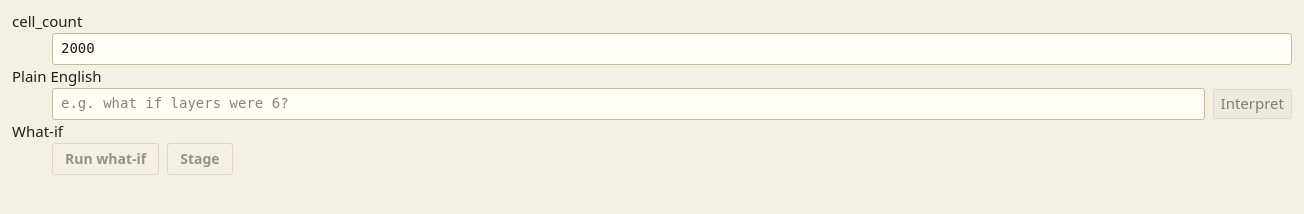
Test case: WhatIfEditor › points at the named step instead of filling the wrong form
Type "sense threshold to 0.9" into the field named "Describe the change in plain English" at (628, 104), box x1=52 y1=88 x2=1205 y2=120
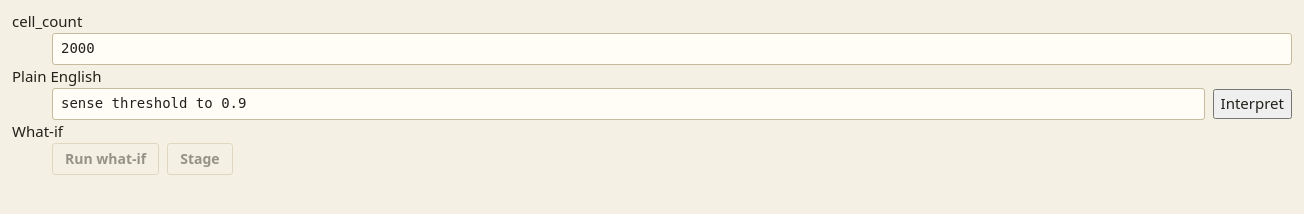
Click the button "Interpret" at (1252, 104), box x1=1213 y1=89 x2=1292 y2=119
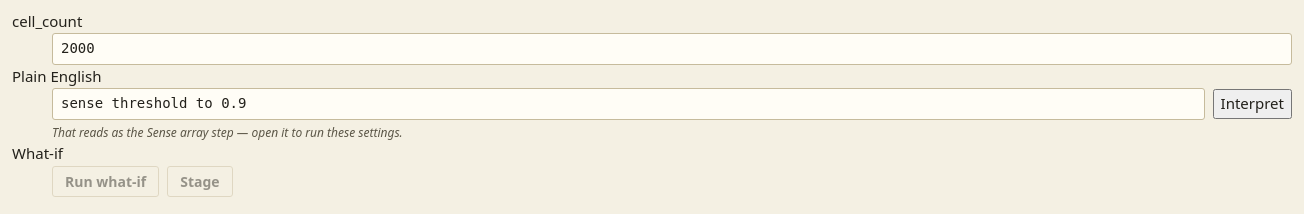
Expected: the field named "cell_count" holds "2000", x1=52 y1=33 x2=1292 y2=65
Expected: the text "That reads as the Sense array step" is shown, x1=52 y1=124 x2=403 y2=141
